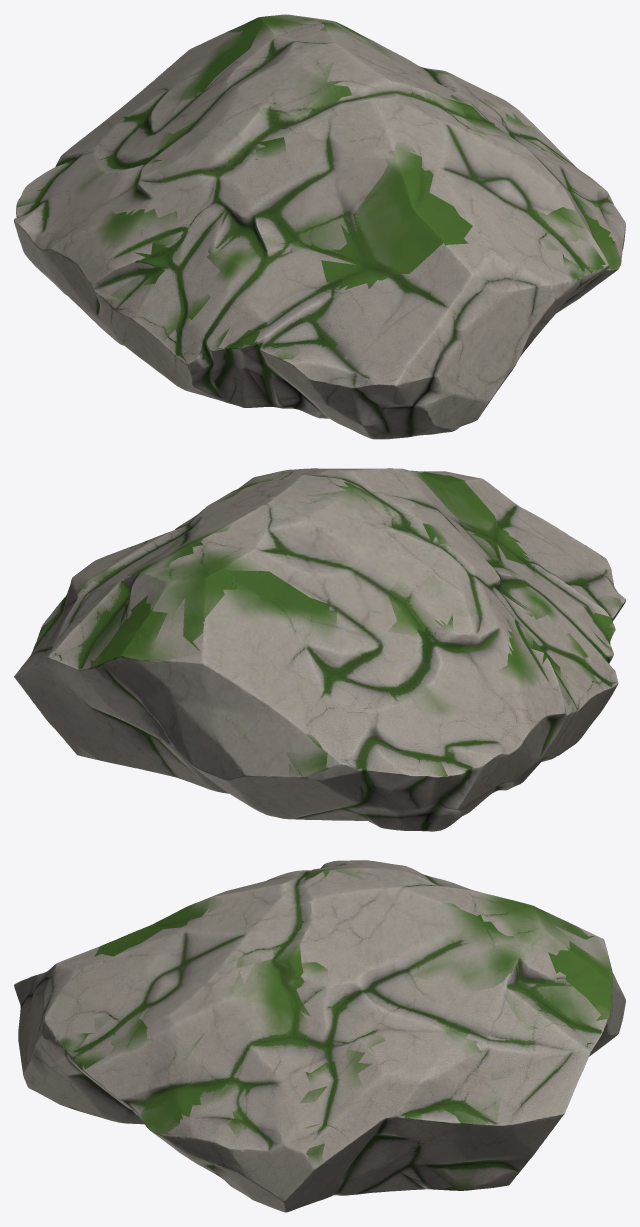
Rendered from rock-moss-a.glb.
3 views of the same model, one above another, from view 1: azimuth 30°, elevation 25°; view 2: azimuth 150°, elevation 25°; view 3: azimuth 270°, elevation 25° (orthographic). The views are drawn at different scales.
Visible parts, largest first — view 1: Mesh_0; view 2: Mesh_0; view 3: Mesh_0.
Boxes of the visible parts, box(x1,y1,x2,y2) form: Mesh_0: box(14, 14, 625, 439); Mesh_0: box(14, 468, 625, 831); Mesh_0: box(14, 860, 625, 1212).
Size of the model in its own units: 2.09 by 1 by 2.28.
1 material, 1 textured.
